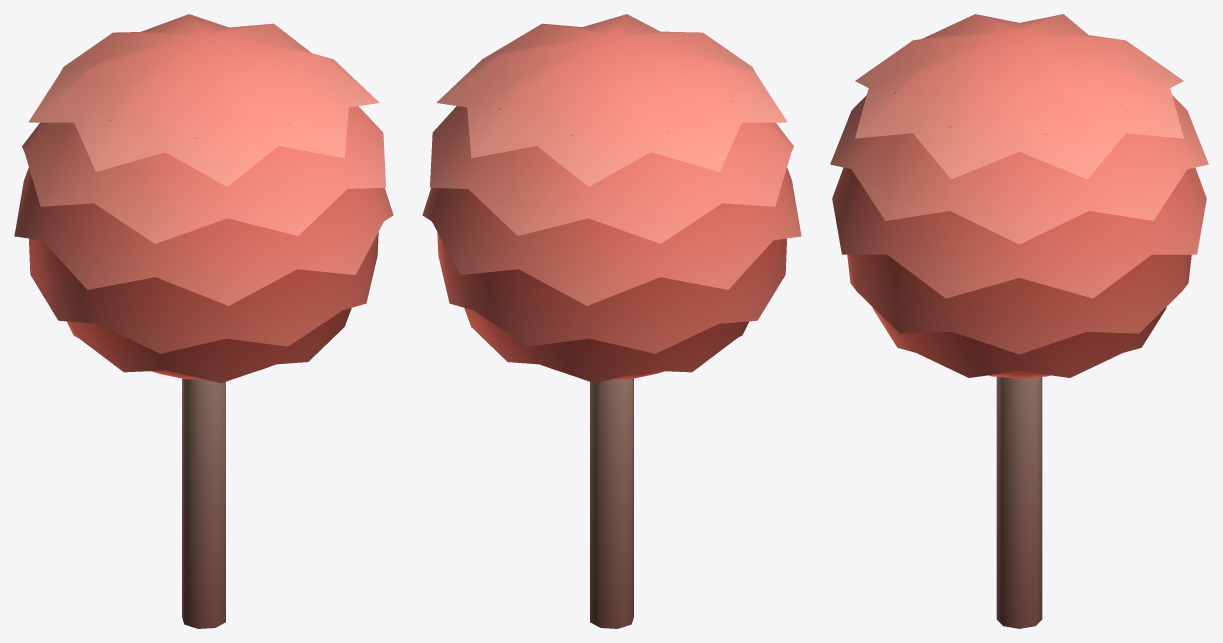
The model's file is Asset_TreeRoundA.glb.
The picture shows the model from 3 angles, left to right: view 1: azimuth 30°, elevation 25°; view 2: azimuth 150°, elevation 25°; view 3: azimuth 270°, elevation 25°; orthographic projection.
Parts seen in each view (by area): view 1: Mesh.012; view 2: Mesh.012; view 3: Mesh.012.
Part boxes in pixels (left/top/right/bottom): Mesh.012: left=14, top=14, right=393, bottom=628; Mesh.012: left=422, top=14, right=801, bottom=628; Mesh.012: left=830, top=14, right=1208, bottom=628.
Size of what is drawn, in the model's own units: 1.99 by 3.39 by 1.99.
1 material, 1 textured.
